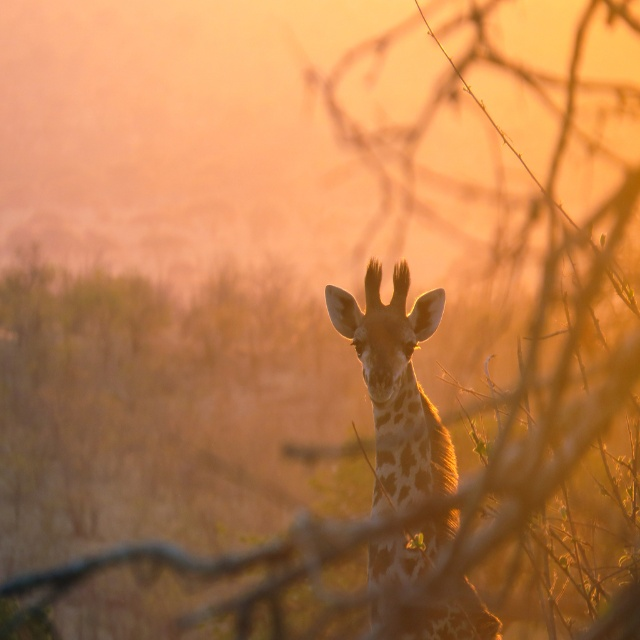Giraffe: (312, 292, 492, 562)
